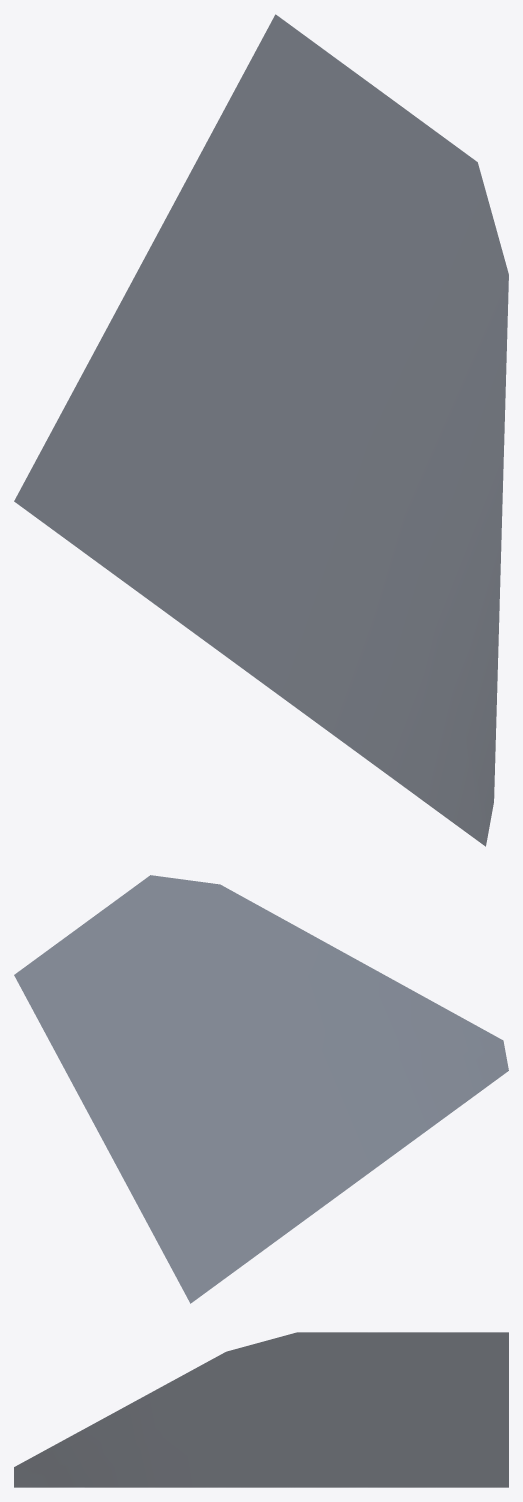
File: sidewindow_rr.glb
3 renders of one model, top to bottom at view 1: azimuth 30°, elevation 25°; view 2: azimuth 150°, elevation 25°; view 3: azimuth 270°, elevation 25°, orthographic. The views are drawn at different scales.
Parts seen in each view (by area): view 1: GEO_SideWindow_RR; view 2: GEO_SideWindow_RR; view 3: GEO_SideWindow_RR.
Boxes of the visible parts, x1,y1,x2,y2 form: GEO_SideWindow_RR: (14,14,508,846); GEO_SideWindow_RR: (14,875,508,1303); GEO_SideWindow_RR: (14,1332,508,1487).
Bounding box in the file's own units: 0.32 × 0.495 × 1.
